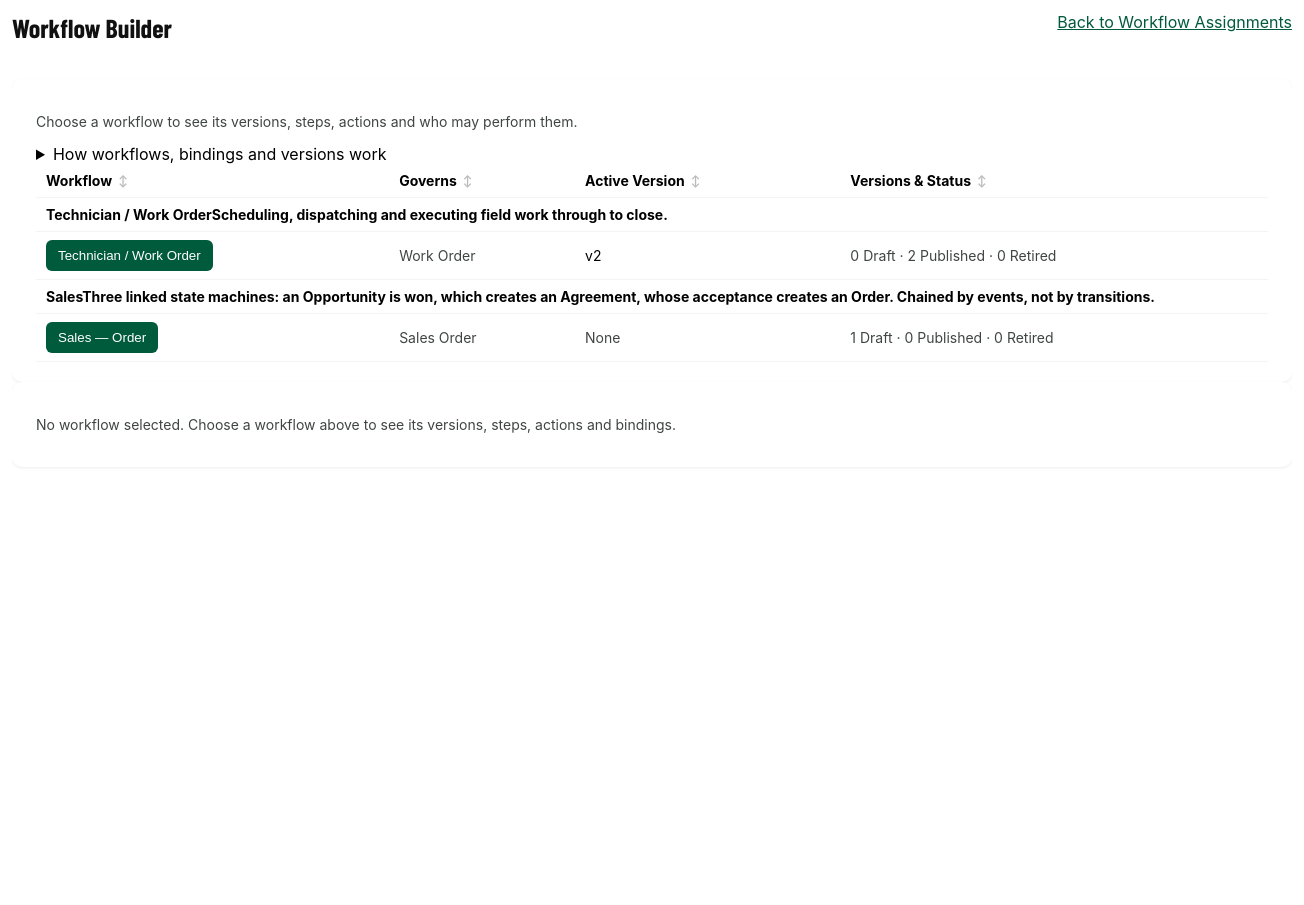
Test: Administration > Workflows › PUBLISH sends the version and the reason, and shows the server's refusal VERBATIM
The width and height of the screenshot is (1304, 905).
Click the button "Sales — Order" at (102, 338), box [46,322,158,353]
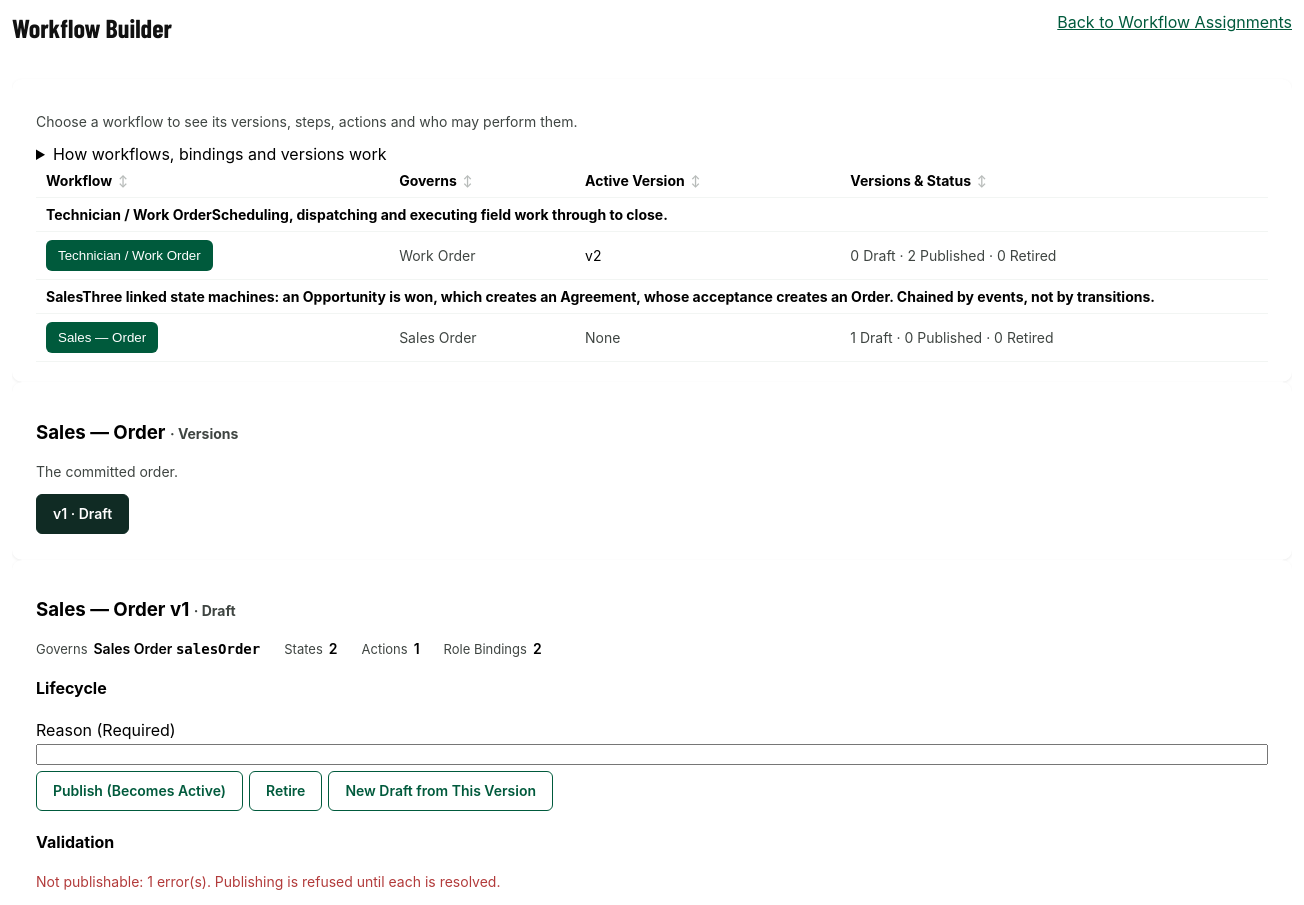
Type "go live" into the field named "Reason for the workflow change" at (652, 754), box [36,744,1268,765]
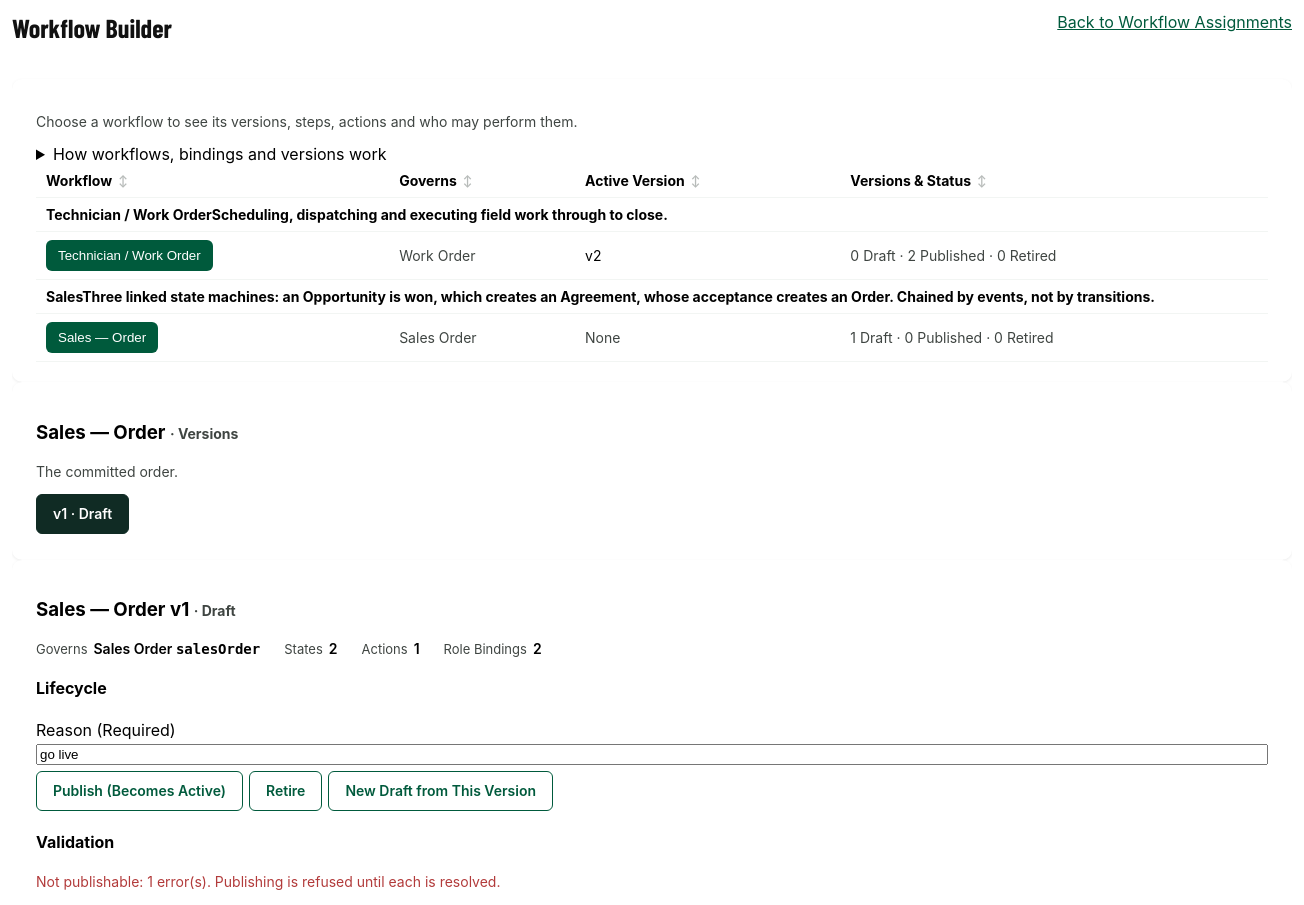
Click the button with test id "publish" at (140, 791), box [36,771,243,811]
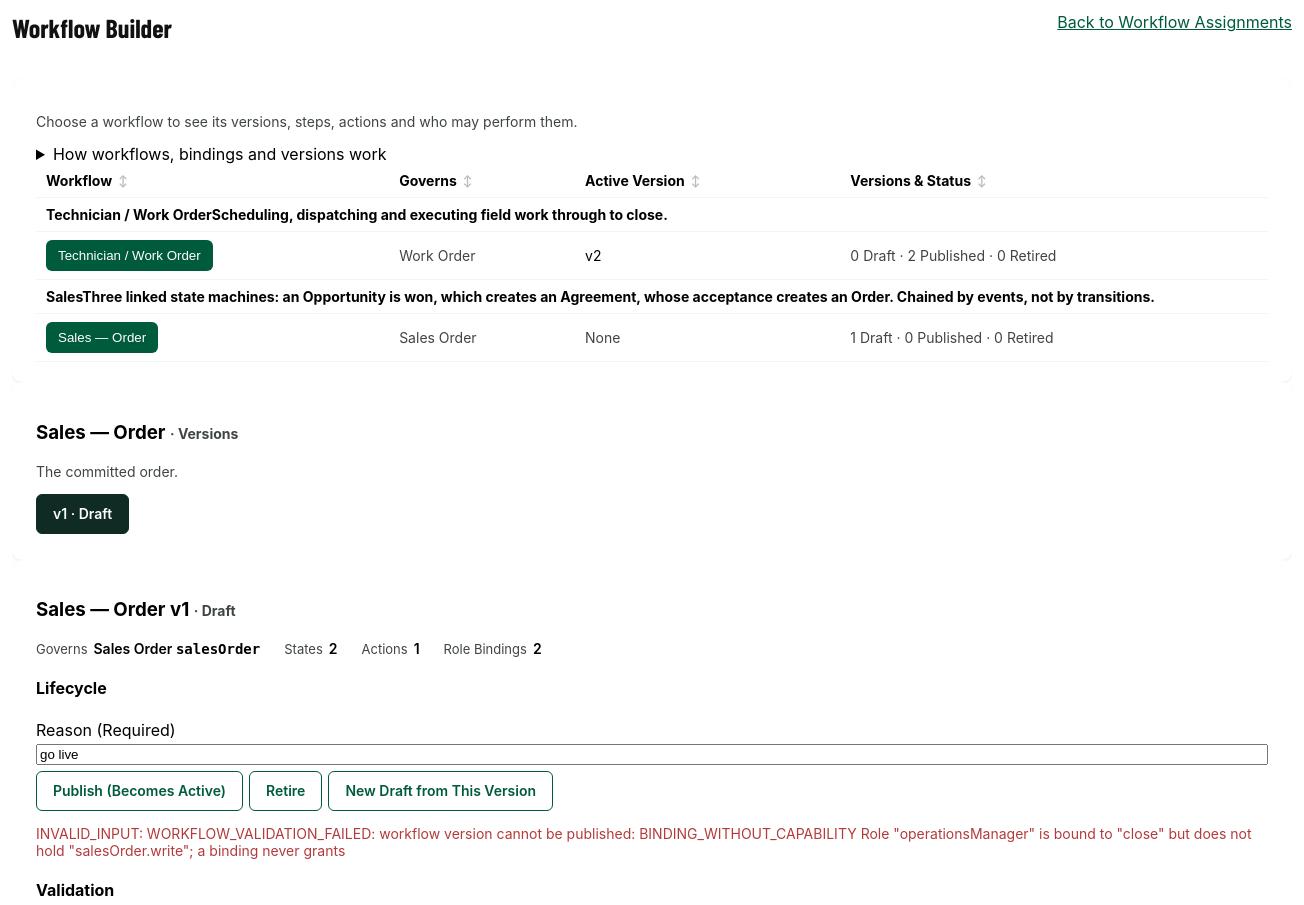
Check: the message with test id "refused" is shown, box [36,825,1268,859]
Check: the message with test id "refused" shows "INVALID_INPUT: WORKFLOW_VALIDATION_FAILED: workflow version cannot be published: BINDING_WITHOUT_CAPABILITY Role \"operationsManager\" is bound to \"close\" but doe", box [36,825,1252,859]
